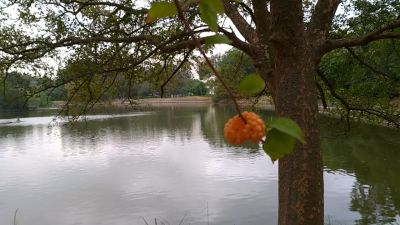eggs: (224, 108, 267, 148)
